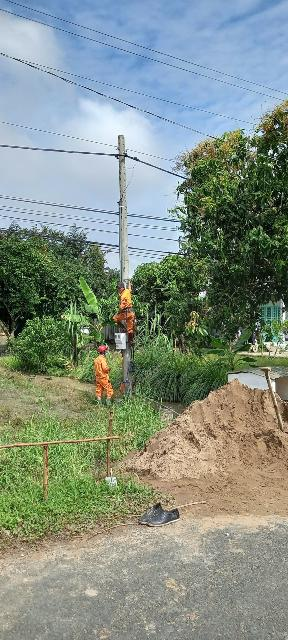gloves: (128, 276, 134, 285), (115, 311, 121, 315)
harness: (118, 307, 137, 314)
helmet: (113, 281, 126, 293), (95, 346, 111, 352)
shoes: (114, 319, 129, 335), (128, 329, 138, 349), (106, 396, 117, 410), (96, 399, 105, 410)
